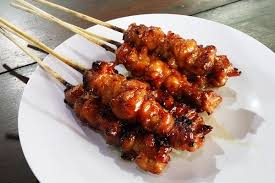sate: (56, 16, 253, 178)
